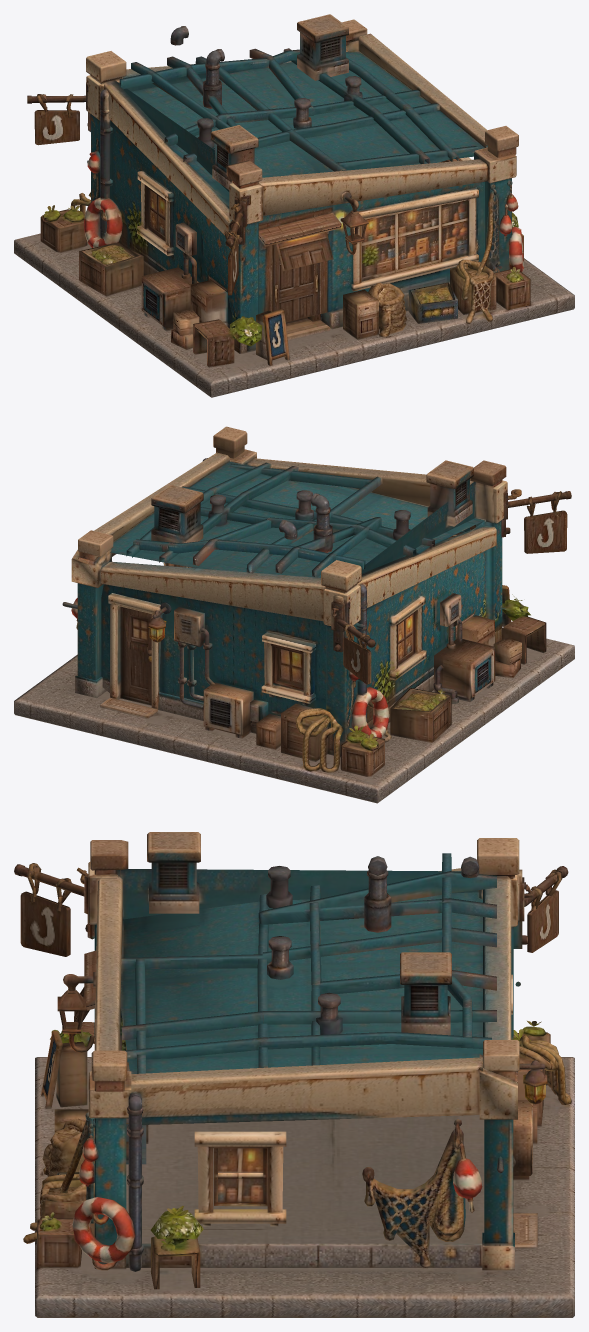
Rendered from seaside-shop.glb.
The picture shows the model from 3 angles, top to bottom: view 1: azimuth 30°, elevation 25°; view 2: azimuth 150°, elevation 25°; view 3: azimuth 270°, elevation 25°; orthographic projection. The views are drawn at different scales.
Visible parts, largest first — view 1: tripo_node_ea783d14-b35a-40d9-97f5-a0fce6dd89ee; view 2: tripo_node_ea783d14-b35a-40d9-97f5-a0fce6dd89ee; view 3: tripo_node_ea783d14-b35a-40d9-97f5-a0fce6dd89ee.
Boxes of the visible parts, x1,y1,x2,y2 form: tripo_node_ea783d14-b35a-40d9-97f5-a0fce6dd89ee: (14, 14, 574, 397); tripo_node_ea783d14-b35a-40d9-97f5-a0fce6dd89ee: (14, 426, 574, 803); tripo_node_ea783d14-b35a-40d9-97f5-a0fce6dd89ee: (14, 832, 574, 1317).
Bounding box in the file's own units: 0.9995 × 0.5884 × 0.9751.
Materials: 1 (1 with a texture image).
